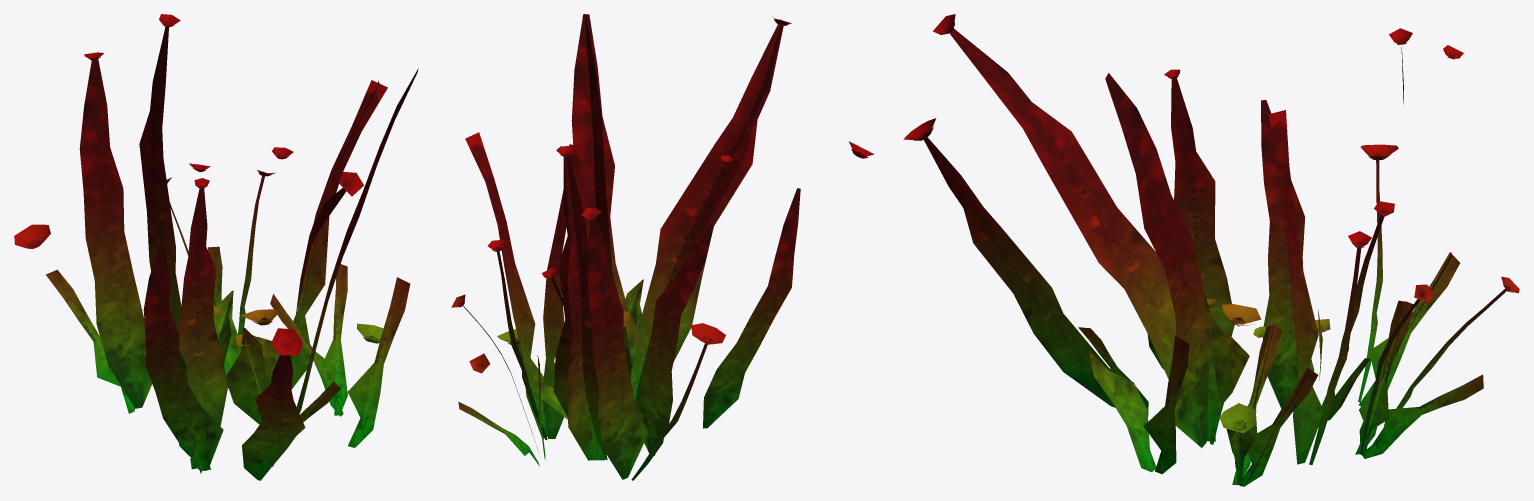
The model's file is White Everlasting_LOD1_Var5_ucvobbbia.glb.
The picture shows the model from 3 angles, left to right: view 1: azimuth 30°, elevation 25°; view 2: azimuth 150°, elevation 25°; view 3: azimuth 270°, elevation 25°; orthographic projection. The views are drawn at different scales.
Parts seen in each view (by area): view 1: _e700_Var5_LOD1; view 2: _e700_Var5_LOD1; view 3: _e700_Var5_LOD1.
Boxes of the visible parts, x1,y1,x2,y2 form: _e700_Var5_LOD1: [14, 14, 418, 480]; _e700_Var5_LOD1: [451, 14, 874, 480]; _e700_Var5_LOD1: [903, 14, 1519, 486].
Bounding box in the file's own units: 0.3442 × 0.3946 × 0.5192.
1 material, 1 textured.
